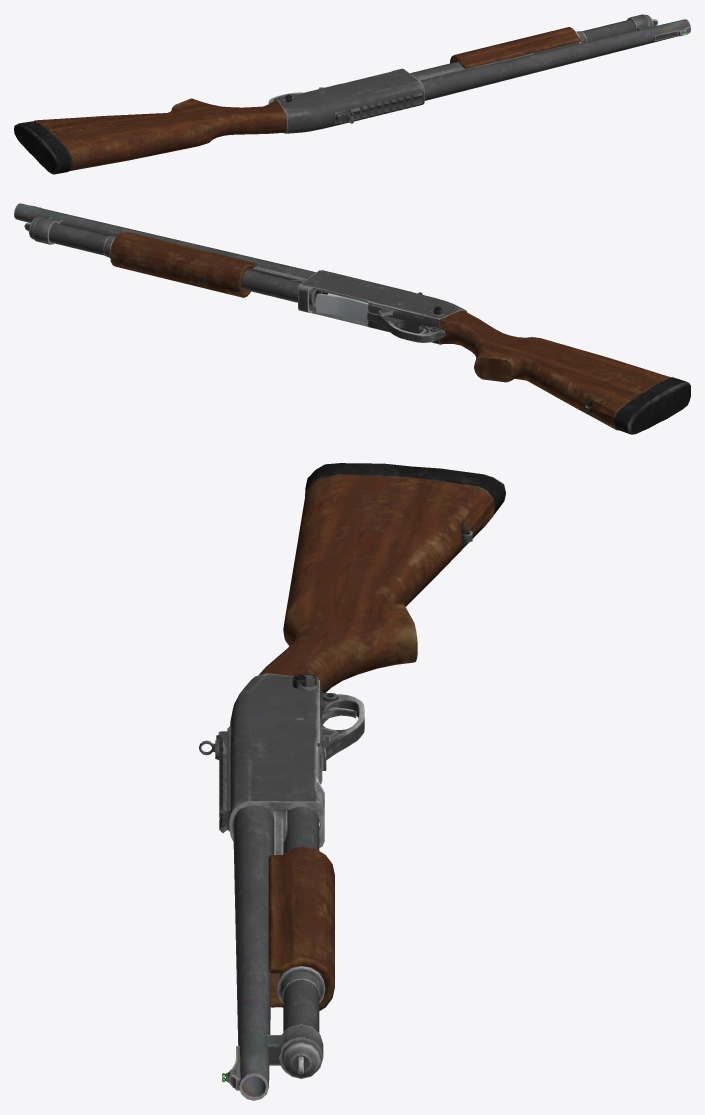
The model's file is Remington_1.glb.
3 views of the same model, one above another, from view 1: azimuth 30°, elevation 25°; view 2: azimuth 150°, elevation 25°; view 3: azimuth 270°, elevation 25° (orthographic). The views are drawn at different scales.
Visible parts, largest first — view 1: Remington_upd, Remington_upd_mag; view 2: Remington_upd, Remington_upd_mag; view 3: Remington_upd, Remington_upd_mag.
Boxes of the visible parts, x1=… form: Remington_upd: x1=14, y1=14, x2=690, y2=174; Remington_upd_mag: x1=450, y1=27, x2=581, y2=68; Remington_upd: x1=14, y1=203, x2=690, y2=434; Remington_upd_mag: x1=110, y1=231, x2=256, y2=297; Remington_upd: x1=199, y1=463, x2=505, y2=1100; Remington_upd_mag: x1=268, y1=846, x2=334, y2=1010.
Bounding box in the file's own units: 0.7428 × 0.036 × 0.16.
Materials: 1 (1 with a texture image).
